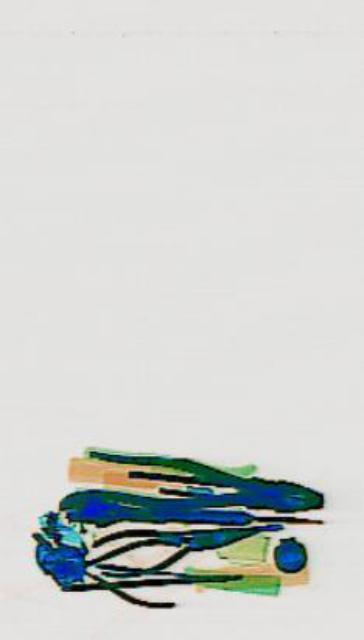Pliers: (79, 444, 321, 524), (88, 502, 280, 580), (63, 522, 176, 608)
